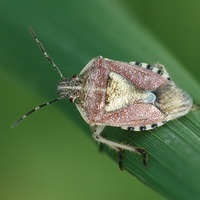insect: (11, 27, 192, 168)
